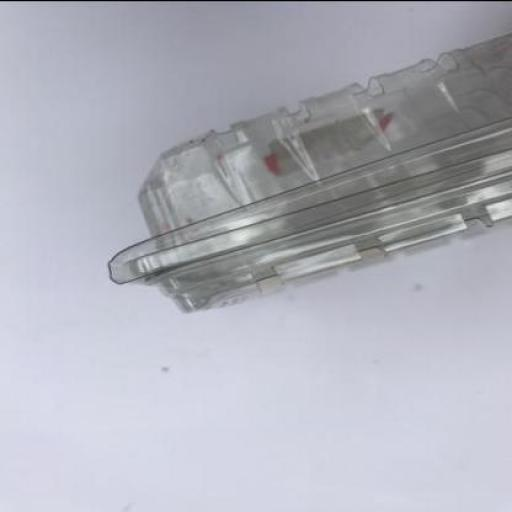plastic: (104, 31, 510, 312)
